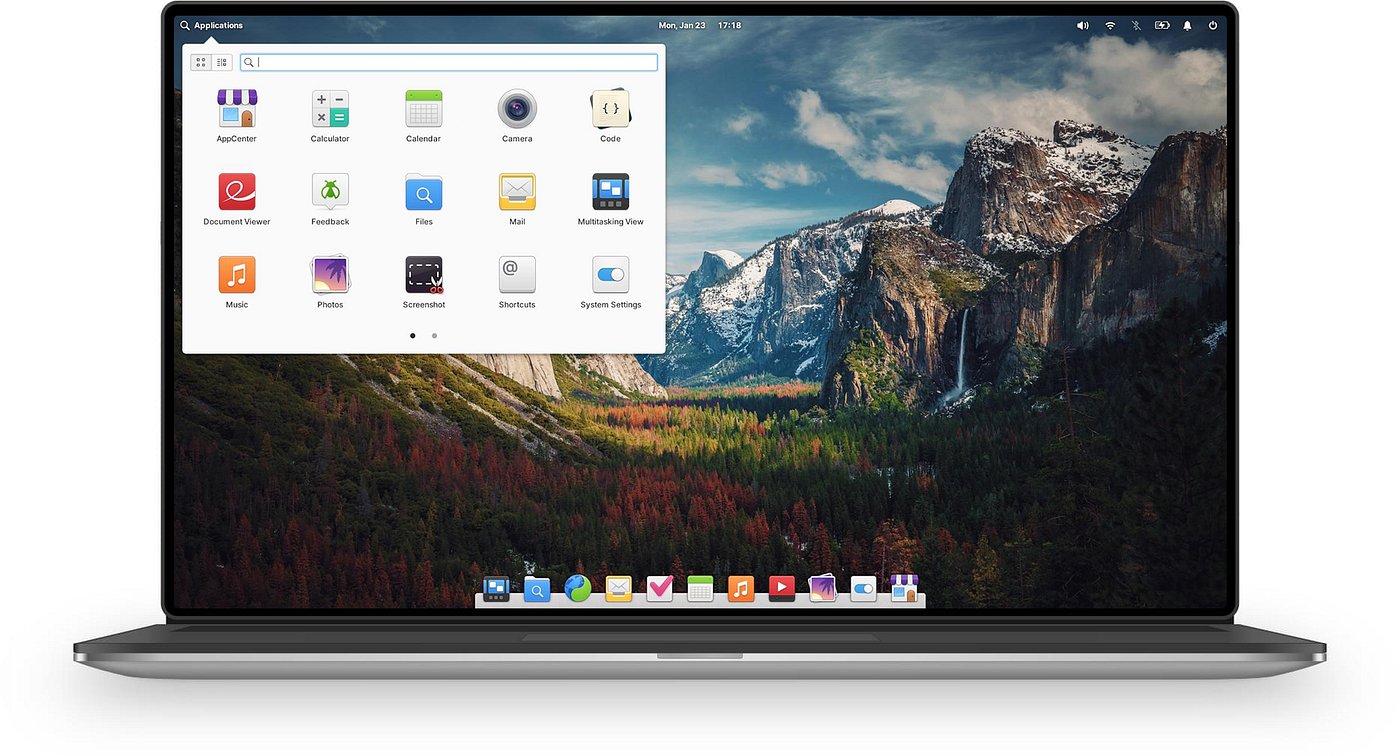search_box: (240, 52, 660, 75)
